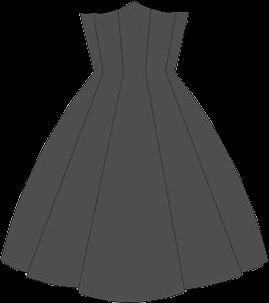Hemline: (0, 258, 268, 302)
Waistline: (79, 0, 189, 16)
